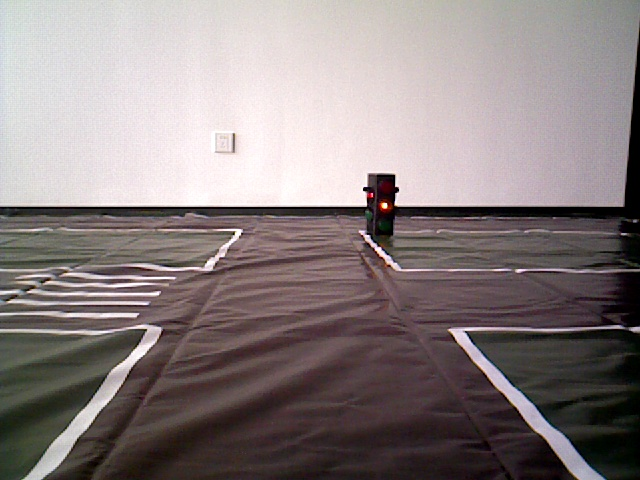yellow: (364, 166, 395, 236)
